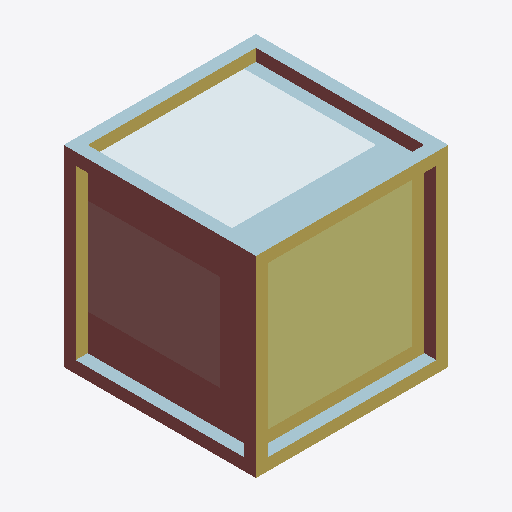
Isometric view (azimuth 45°, elevation 35.3°) of a Minecraft model made of 19 cuboids, textured from the same repository.
Visible parts, largest first — element 19, element 14, element 18, element 2, element 1, element 3, element 7, element 12, element 8, element 11, element 6, element 9 (+1 smaller).
Boxes of the visible parts, <box> form: element 19: <box>232,145,423,442</box>; element 14: <box>88,62,398,269</box>; element 18: <box>88,187,231,407</box>; element 2: <box>244,242,267,477</box>; element 1: <box>64,138,87,373</box>; element 3: <box>424,138,447,373</box>; element 7: <box>257,145,435,262</box>; element 12: <box>76,145,254,262</box>; element 8: <box>77,41,255,151</box>; element 11: <box>256,41,434,151</box>; element 6: <box>268,353,435,470</box>; element 9: <box>76,353,243,470</box>.
Size of the model in its own units: 16 by 16 by 16.